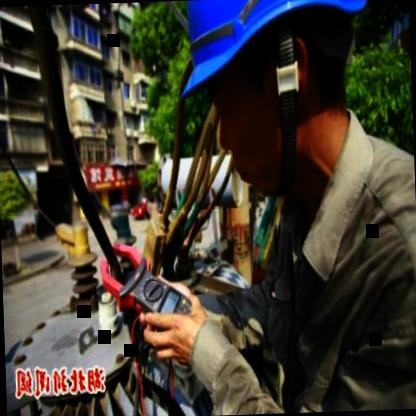helmet: (172, 0, 379, 204)
